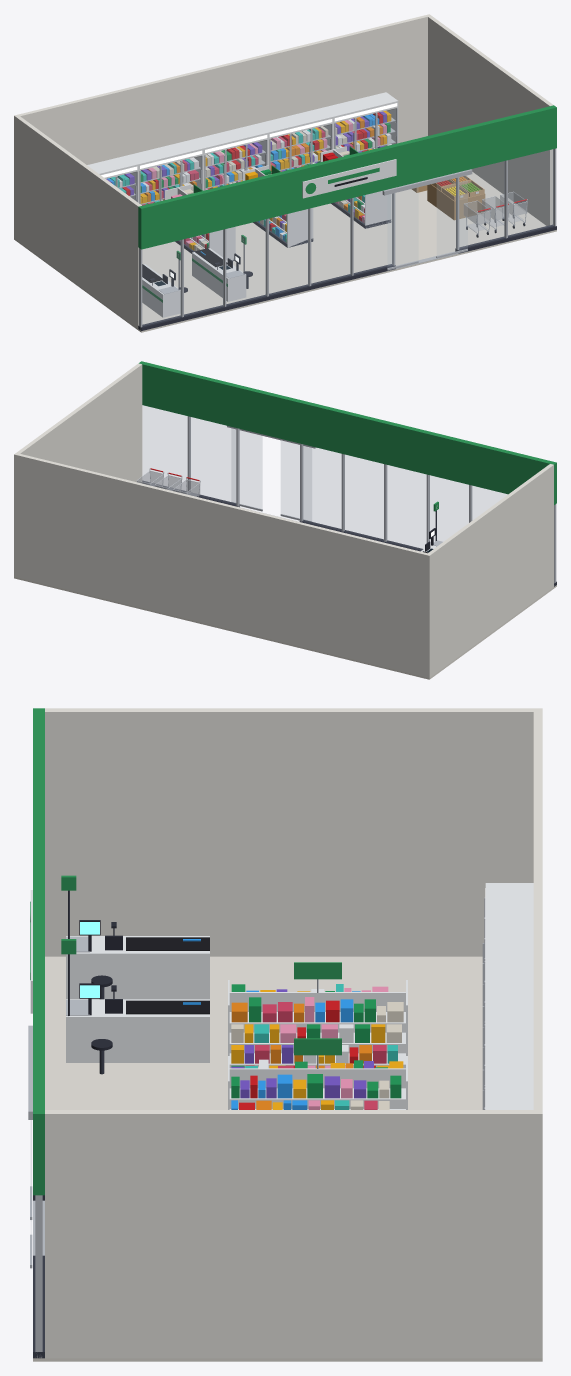
The model's file is mal-002.glb.
3 views of the same model, one above another, from view 1: azimuth 30°, elevation 25°; view 2: azimuth 150°, elevation 25°; view 3: azimuth 270°, elevation 25° (orthographic). The views are drawn at different scales.
Visible parts, largest first — view 1: mall_wall, glass_clear, mall_floor, brand_grocery, white, stainless, dark_steel, chain_link, accent_amber, paper, lamp_diffuser, oak (+11 smaller); view 2: mall_wall, glass_clear, brand_grocery, stainless, mall_floor, chain_link, dark_steel; view 3: mall_wall, white, mall_floor, brand_grocery, stainless, safety_green, conveyor_belt, accent_amber, brand_home, plastic_blue, paper, plastic_dark (+5 smaller).
Part boxes in pixels (x1=…): mall_wall: x1=14, y1=14, x2=553, y2=328; glass_clear: x1=108, y1=109, x2=553, y2=325; mall_floor: x1=14, y1=172, x2=556, y2=332; brand_grocery: x1=138, y1=105, x2=556, y2=302; white: x1=87, y1=92, x2=478, y2=317; stainless: x1=115, y1=108, x2=556, y2=330; dark_steel: x1=138, y1=202, x2=556, y2=330; chain_link: x1=464, y1=192, x2=527, y2=231; accent_amber: x1=140, y1=111, x2=391, y2=250; paper: x1=153, y1=126, x2=375, y2=251; lamp_diffuser: x1=101, y1=103, x2=397, y2=177; oak: x1=411, y1=184, x2=485, y2=220; mall_wall: x1=14, y1=363, x2=553, y2=677; glass_clear: x1=143, y1=406, x2=506, y2=549; brand_grocery: x1=139, y1=361, x2=556, y2=511; stainless: x1=187, y1=416, x2=556, y2=585; mall_floor: x1=14, y1=577, x2=556, y2=679; chain_link: x1=136, y1=471, x2=200, y2=496; dark_steel: x1=142, y1=481, x2=556, y2=586; mall_wall: x1=45, y1=708, x2=542, y2=1358; white: x1=30, y1=883, x2=533, y2=1109; mall_floor: x1=33, y1=956, x2=542, y2=1361; brand_grocery: x1=30, y1=708, x2=341, y2=1195; stainless: x1=28, y1=897, x2=485, y2=1357; safety_green: x1=231, y1=984, x2=401, y2=1098; conveyor_belt: x1=126, y1=937, x2=209, y2=1014; accent_amber: x1=231, y1=990, x2=403, y2=1109; brand_home: x1=231, y1=989, x2=373, y2=1098; plastic_blue: x1=183, y1=939, x2=360, y2=1109; paper: x1=231, y1=1002, x2=403, y2=1109; plastic_dark: x1=79, y1=920, x2=122, y2=1050.
Bounding box in the file's own units: 16 × 4.56 × 8.58.
